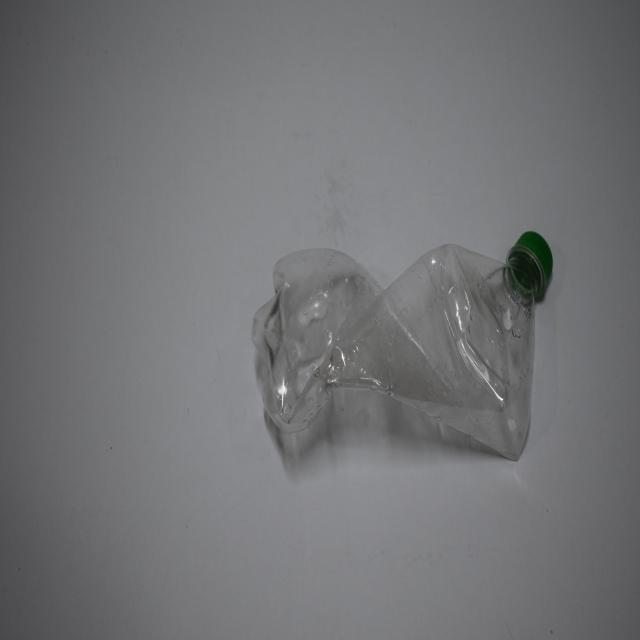bottle: (250, 222, 556, 488)
